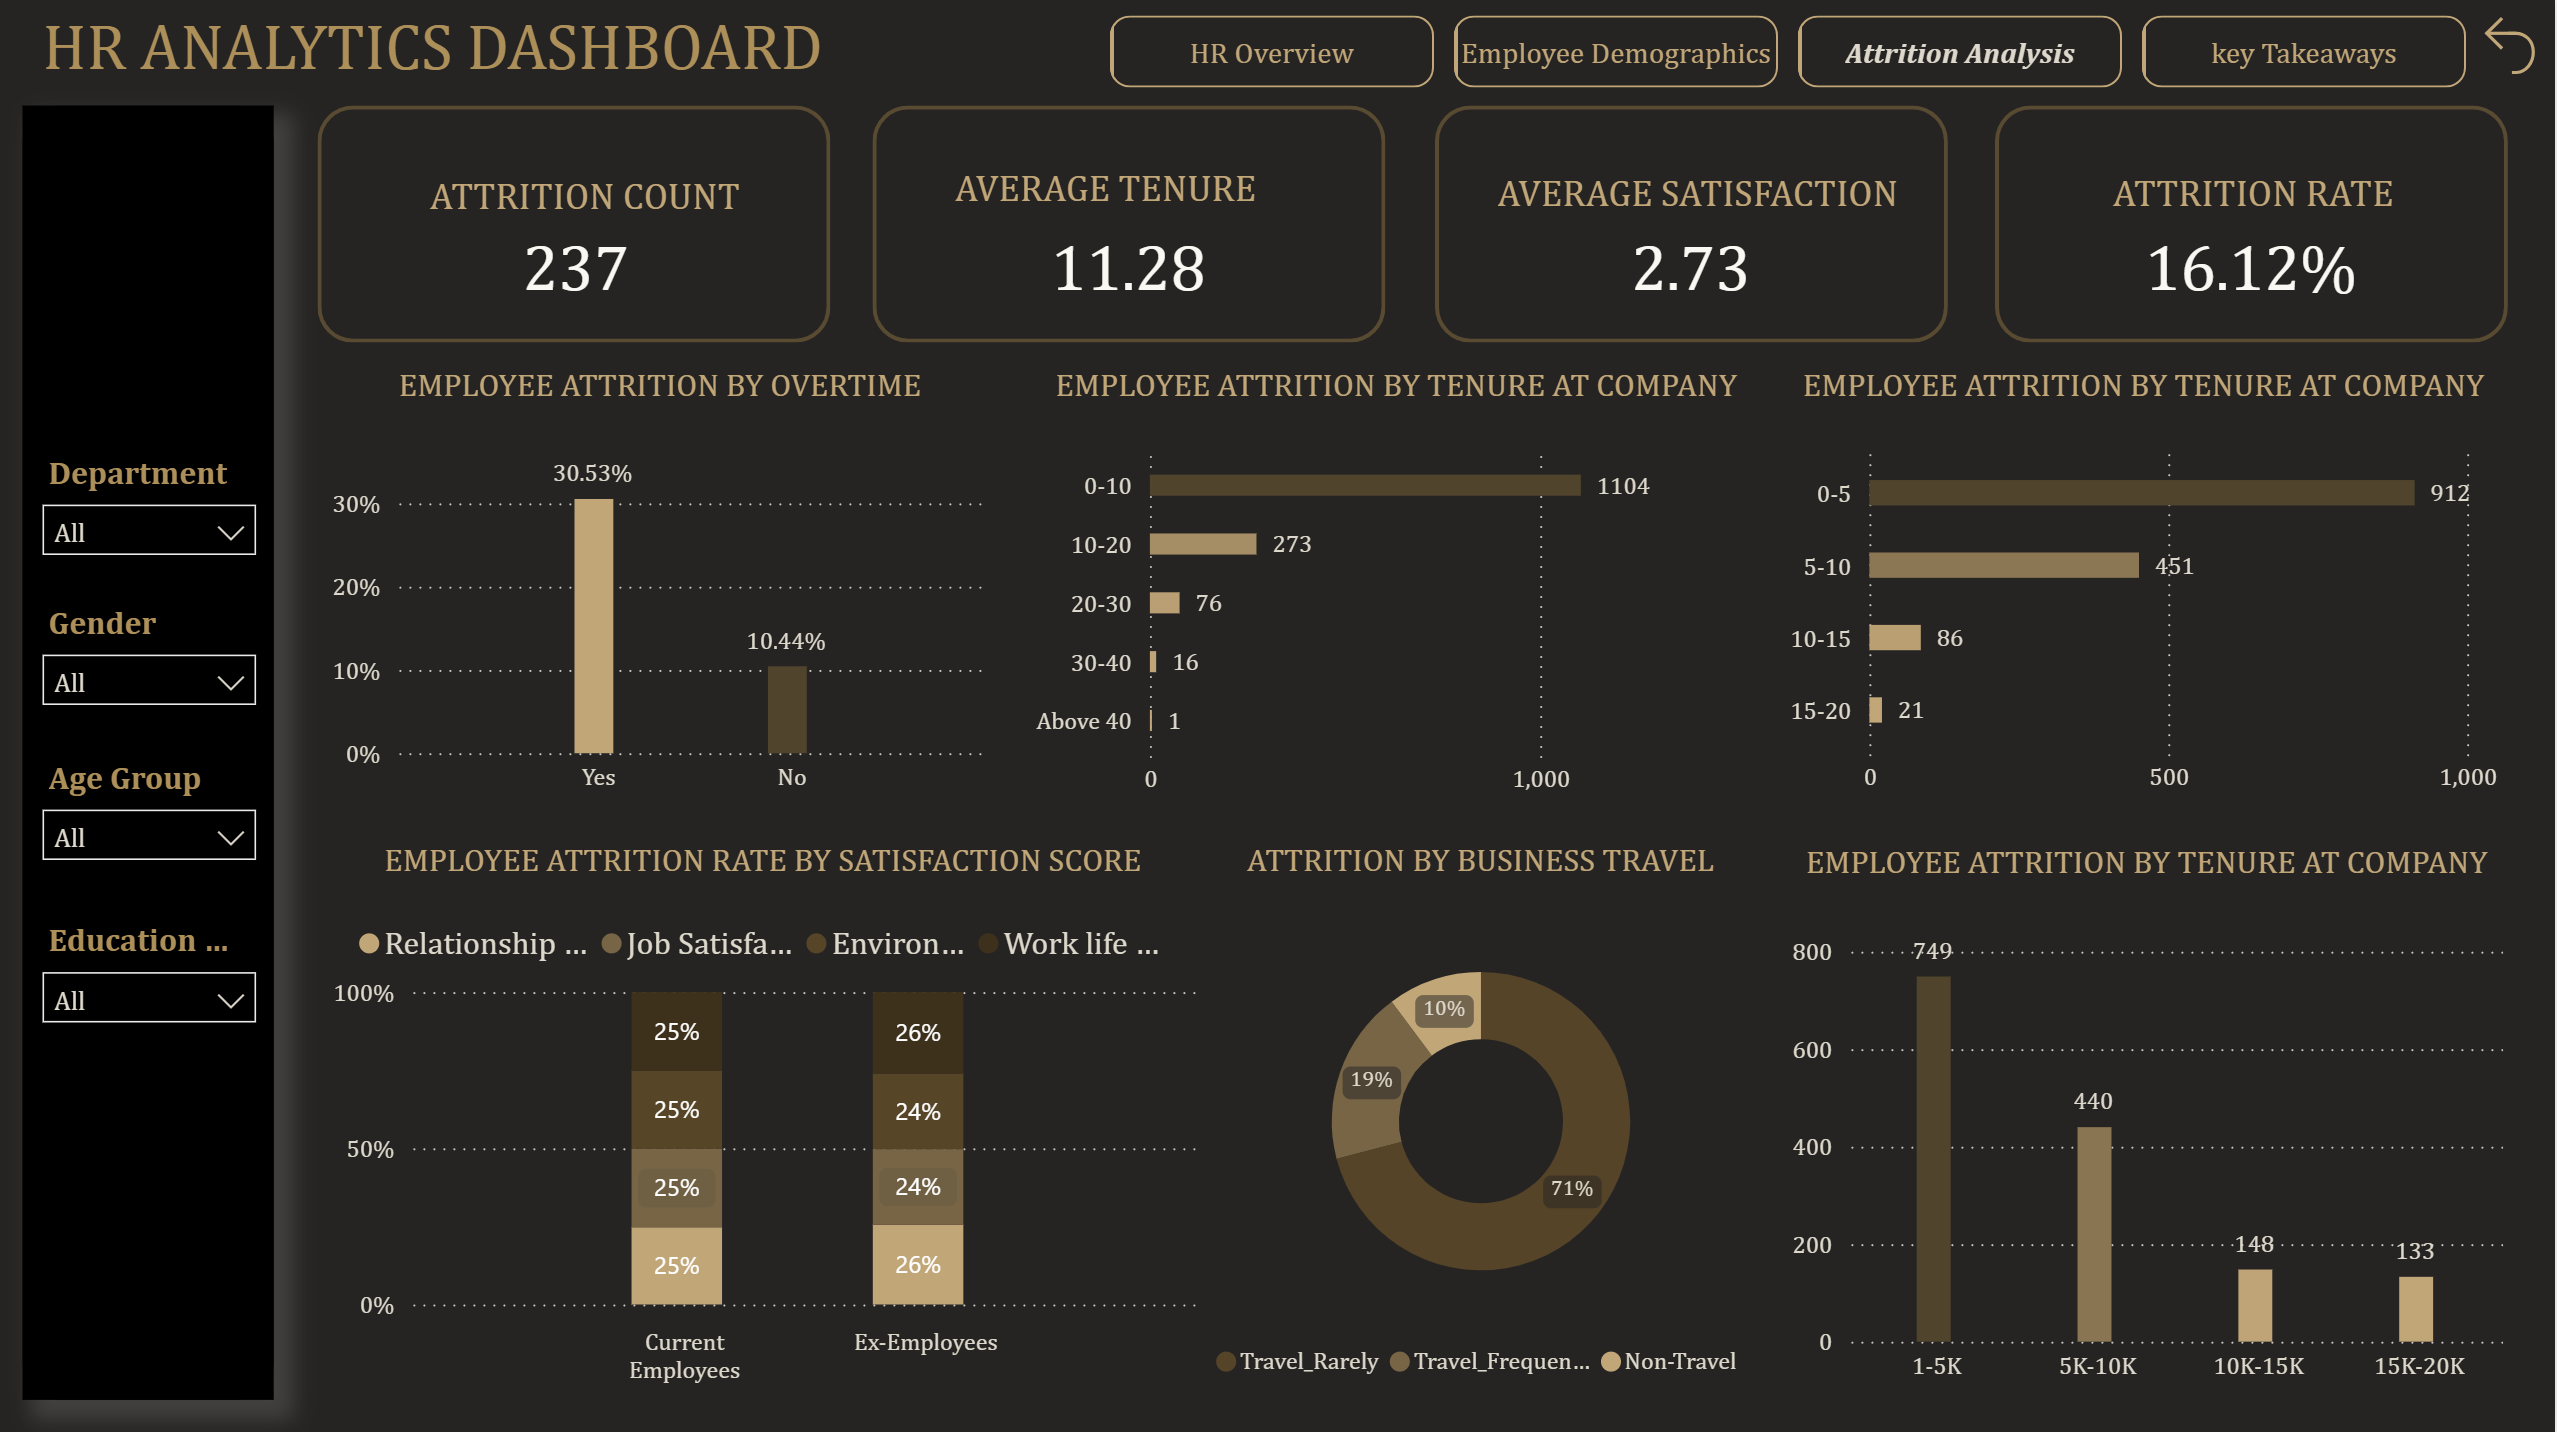

The page's visual inventory and layout, read from the dashboard file:
{"tool":"powerbi","page":{"name":"Attrition Analysis","canvas":[1280,720],"ordinal":2},"visuals":[{"type":"actionButton","box":[1237.5,3.8,42.5,40],"z":0},{"type":"columnChart","title":"EMPLOYEE ATTRITION BY OVERTIME","fields":{"Category":["HR data.Over Time"],"Y":["HR data.Attrition Rate"]},"box":[162.9,184.3,340,222.9],"z":1000},{"type":"group","id":"g1","title":"Group 2","box":[161.7,54.2,1095.7,118.6],"z":2000},{"type":"shape","box":[161.7,54.2,256.5,118.6],"z":2000,"group":"g1"},{"type":"shape","box":[438.8,54.2,256.5,118.6],"z":3000,"group":"g1"},{"type":"shape","box":[14.3,54.3,125.7,647.1],"z":3000},{"type":"shape","box":[720.6,54.2,256.5,118.6],"z":4000,"group":"g1"},{"type":"slicer","fields":{"Values":["HR data.Department"]},"box":[13.3,222.2,126.7,64.4],"z":4000},{"type":"shape","box":[1000.8,54.2,256.5,118.6],"z":5000,"group":"g1"},{"type":"slicer","fields":{"Values":["HR data.Gender"]},"box":[13.3,297.8,126.7,65.6],"z":5000},{"type":"slicer","fields":{"Values":["HR data.Age Group"]},"box":[13.3,374.4,126.7,65.6],"z":6000},{"type":"cardVisual","fields":{"Data":["Avg(HR data.Total Working Years)"]},"box":[438.8,94.9,256,77.5],"z":7000,"group":"g3"},{"type":"cardVisual","fields":{"Data":["Avg(HR data.Job Satisfaction)"]},"box":[720.2,94.9,256,77.5],"z":7000,"group":"g4"},{"type":"cardVisual","fields":{"Data":["HR data.Attrition Rate"]},"box":[1001,94.9,256,77.5],"z":7000,"group":"g5"},{"type":"cardVisual","fields":{"Data":["HR data.Attrition Count"]},"box":[163.1,95.1,256,77.5],"z":7000,"group":"g1"},{"type":"slicer","fields":{"Values":["HR data.Education Field"]},"box":[13.3,456.7,126.7,65.6],"z":7000},{"type":"textbox","box":[475.3,61.2,164.3,67.1],"z":8000,"group":"g3"},{"type":"textbox","box":[745.9,63.8,262.9,67.1],"z":8000,"group":"g4"},{"type":"textbox","box":[1015.8,63.8,228.3,66.3],"z":8000,"group":"g5"},{"type":"group","id":"g2","title":"Group 1","box":[200.9,65.1,190,73],"z":8000,"group":"g1"},{"type":"textbox","box":[200.9,65.1,190,73],"z":8000,"group":"g2"},{"type":"donutChart","title":"ATTRITION BY BUSINESS TRAVEL","fields":{"Y":["CountNonNull(HR data.Attrition)"],"Series":["HR data.Business Travel"],"Category":["HR data.Business Travel"]},"box":[605,421.7,275.6,278.9],"z":8000},{"type":"group","id":"g3","title":"Group 1","box":[438.8,61.2,256,111.2],"z":9000,"group":"g1"},{"type":"clusteredBarChart","title":"EMPLOYEE ATTRITION BY TENURE AT COMPANY","fields":{"Category":["HR data.Working Year Interval at Company"],"Y":["CountNonNull(HR data.Attrition)"]},"box":[511.2,183.8,378.8,223.8],"z":9000},{"type":"group","id":"g4","title":"Group 1","box":[720.2,63.8,288.6,108.6],"z":10000,"group":"g1"},{"type":"clusteredBarChart","title":"EMPLOYEE ATTRITION BY TENURE AT COMPANY","fields":{"Y":["CountNonNull(HR data.Attrition)"],"Category":["HR data.Working Year Interval in the company Role"]},"box":[890,184.3,368.6,222.9],"z":10000},{"type":"group","id":"g5","title":"Group 1","box":[1001,63.8,256.4,108.8],"z":11000,"group":"g1"},{"type":"hundredPercentStackedColumnChart","title":"EMPLOYEE ATTRITION RATE BY SATISFACTION SCORE","fields":{"Category":["HR data.CF_attrition label"],"Y":["HR data.Avg Realtionship Satisfaction","HR data.Avg Job Satisfaction","HR data.Avg Environtment Satisfaction","HR data.Avg work life balance"]},"box":[162.9,421.4,442.9,280],"z":11000},{"type":"clusteredColumnChart","title":"EMPLOYEE ATTRITION BY TENURE AT COMPANY","fields":{"Category":["HR data.Salary Band"],"Y":["CountNonNull(HR data.Attrition)"]},"box":[892.2,422.2,366.7,278.3],"z":12000},{"type":"textbox","box":[18.9,0,790,80],"z":13000},{"type":"pageNavigator","box":[557.1,8.3,679.8,36.9],"z":14000}]}

Visuals, with their boxes in screenshot pixels (x1, y1, x2, y2), scaled from the page's 1280x720 canvas onto the 2557x1432 screenshot:
actionButton: (2472, 8, 2556, 87)
"EMPLOYEE ATTRITION BY OVERTIME" columnChart: (325, 367, 1005, 810)
"Group 2" group: (323, 108, 2512, 344)
shape: (323, 108, 835, 344)
shape: (877, 108, 1389, 344)
shape: (29, 108, 280, 1395)
shape: (1440, 108, 1952, 344)
slicer - HR data.Department: (27, 442, 280, 570)
shape: (1999, 108, 2512, 344)
slicer - HR data.Gender: (27, 592, 280, 723)
slicer - HR data.Age Group: (27, 745, 280, 875)
cardVisual - Avg(HR data.Total Working Years): (877, 189, 1388, 343)
cardVisual - Avg(HR data.Job Satisfaction): (1439, 189, 1950, 343)
cardVisual - HR data.Attrition Rate: (2000, 189, 2511, 343)
cardVisual - HR data.Attrition Count: (326, 189, 837, 343)
slicer - HR data.Education Field: (27, 908, 280, 1039)
textbox: (949, 122, 1278, 255)
textbox: (1490, 127, 2015, 260)
textbox: (2029, 127, 2485, 259)
"Group 1" group: (401, 129, 781, 275)
textbox: (401, 129, 781, 275)
"ATTRITION BY BUSINESS TRAVEL" donutChart: (1209, 839, 1759, 1393)
"Group 1" group: (877, 122, 1388, 343)
"EMPLOYEE ATTRITION BY TENURE AT COMPANY" clusteredBarChart: (1021, 366, 1778, 811)
"Group 1" group: (1439, 127, 2015, 343)
"EMPLOYEE ATTRITION BY TENURE AT COMPANY" clusteredBarChart: (1778, 367, 2514, 810)
"Group 1" group: (2000, 127, 2512, 343)
"EMPLOYEE ATTRITION RATE BY SATISFACTION SCORE" hundredPercentStackedColumnChart: (325, 838, 1210, 1395)
"EMPLOYEE ATTRITION BY TENURE AT COMPANY" clusteredColumnChart: (1782, 840, 2515, 1393)
textbox: (38, 0, 1616, 159)
pageNavigator: (1113, 17, 2471, 90)
